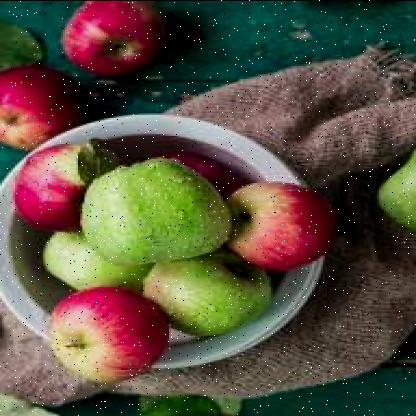apple: (89, 160, 232, 266), (143, 250, 262, 342), (52, 294, 171, 385), (221, 184, 325, 264), (8, 140, 98, 228), (58, 6, 156, 78), (39, 232, 143, 296), (5, 72, 86, 148)
